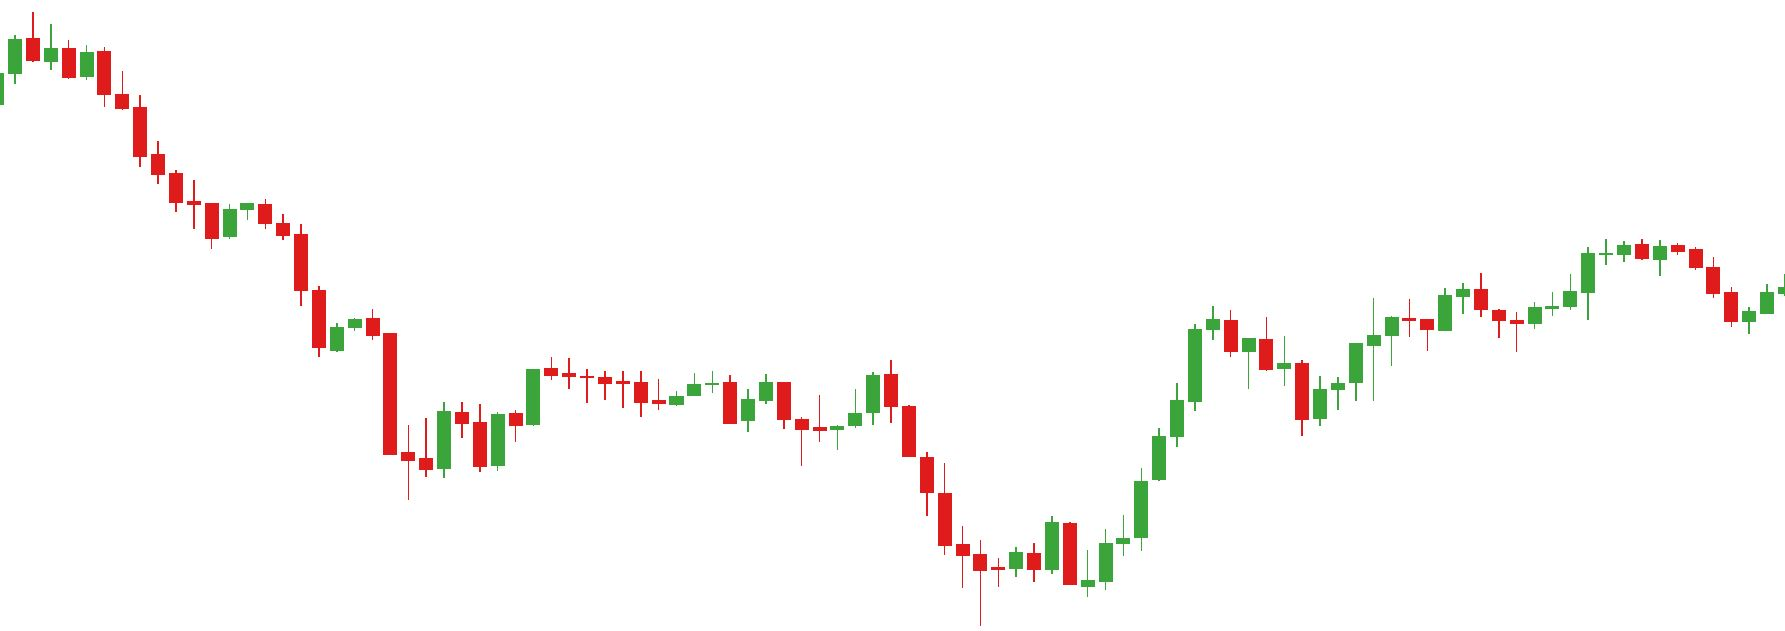sell: (757, 357, 899, 437)
